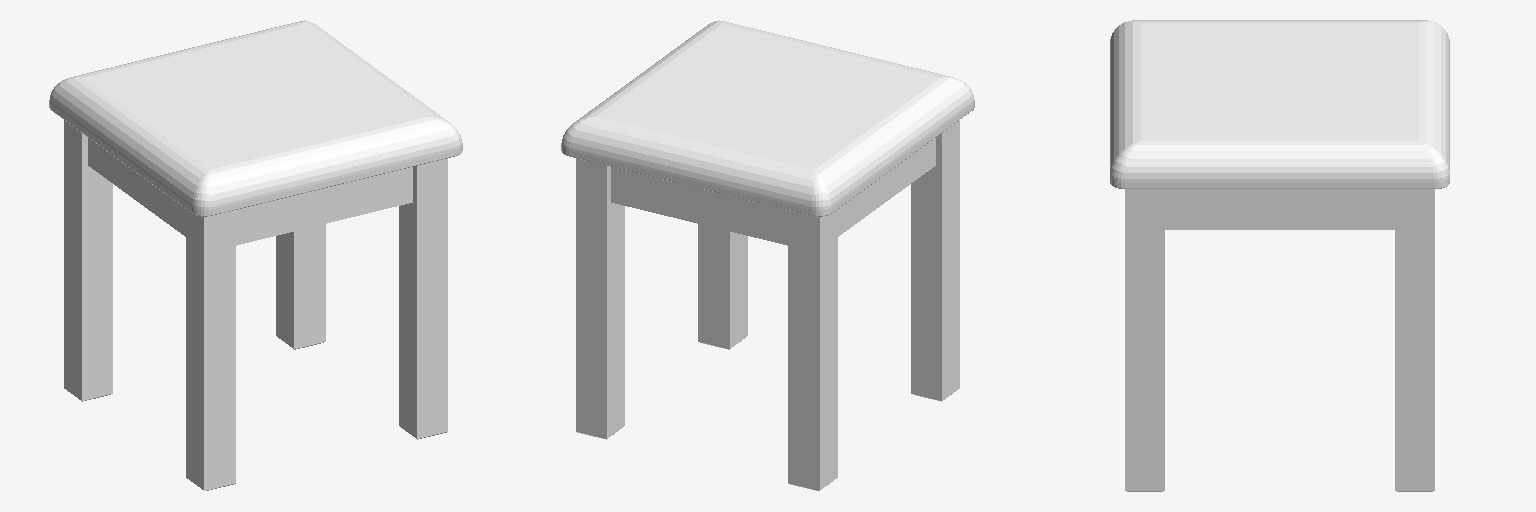
URDF robot description (box.SLDPRT):
<?xml version="1.0" encoding="utf-8"?>
<!-- This URDF was automatically created by SolidWorks to URDF Exporter! Originally created by [author] ([email redacted]) 
     Commit Version: 1.5.1-0-g916b5db  Build Version: 1.5.7152.31018
     For more information, please see http://wiki.ros.org/sw_urdf_exporter -->
<robot
  name="box.SLDPRT">
  <link
    name="box.SLDPRT">
    <inertial>
      <origin
        xyz="1.2996E-17 1.20353843572399E-16 0.4"
        rpy="0 0 0" />
      <mass
        value="1.99" />
      <inertia
        ixx="1.73042"
        ixy="-1.2824E-17"
        ixz="-2.8299E-17"
        iyy="1.73042"
        iyz="2.85579897269348E-17"
        izz="1.0053" />
    </inertial>
    <visual>
      <origin
        xyz="0 0 0.4"
        rpy="1.5707963267949 0 0" />
      <geometry>
        <mesh
          filename="models/meshes/stool/stool.obj" scale="1.1 1.1 1.1"/>
      </geometry>
      <material
        name="">
        <color
          rgba="1 1 1 1" />
      </material>
    </visual>
    <collision>
      <origin
        xyz="0 0 0.4"
        rpy="1.5707963267949 0 0" />
      <geometry>
        <mesh
          filename="models/meshes/stool/stool.obj" scale="0.6 0.6 0.6"/>
      </geometry>
    </collision>
  </link>
</robot>

--- What the picture shows (computed from the rendered views, not written in the file) ---
3 views of the same robot in one strip: view 1: azimuth 30°, elevation 25°; view 2: azimuth 150°, elevation 25°; view 3: azimuth 270°, elevation 25° (orthographic).
Model box.SLDPRT with 1 links and 0 joints (none), rooted at box.SLDPRT, posed all joints at 0.
Links seen in each view (by area): view 1: box.SLDPRT; view 2: box.SLDPRT; view 3: box.SLDPRT.
Boxes of the visible links, bbox=[...] form: box.SLDPRT: bbox=[49, 20, 462, 490]; box.SLDPRT: bbox=[561, 20, 974, 490]; box.SLDPRT: bbox=[1110, 20, 1449, 491].
Bounding box of the posed robot: 0.473 × 0.473 × 0.528 m (x, y, z).
1 mesh visuals loaded from 1 distinct referenced files (1 OBJ).